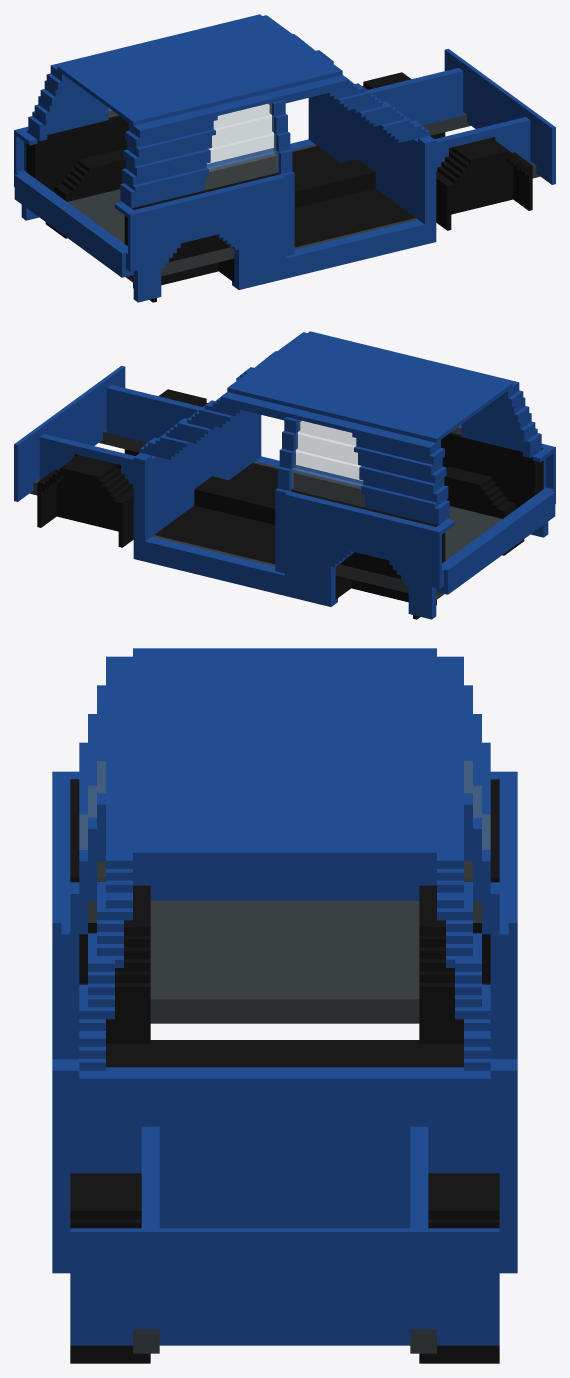
Rendered from city_car_shell.glb.
3 views of the same model, one above another, from view 1: azimuth 30°, elevation 25°; view 2: azimuth 150°, elevation 25°; view 3: azimuth 270°, elevation 25° (orthographic). The views are drawn at different scales.
Visible parts, largest first — view 1: body:compound; view 2: body:compound; view 3: body:compound.
Boxes of the visible parts, x1,y1,x2,y2 form: body:compound: [14, 14, 555, 302]; body:compound: [14, 331, 555, 619]; body:compound: [52, 648, 517, 1363].
Size of the model in its own units: 3.5 by 1.34 by 1.62.
